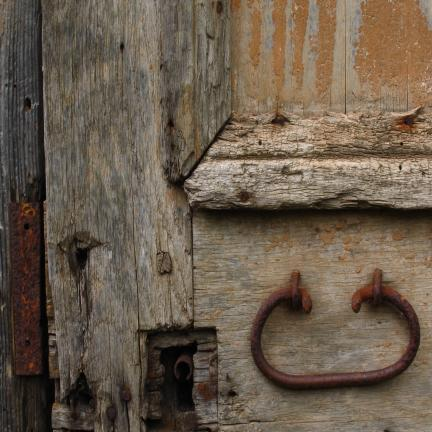karat: (251, 272, 420, 389), (11, 203, 44, 375)
